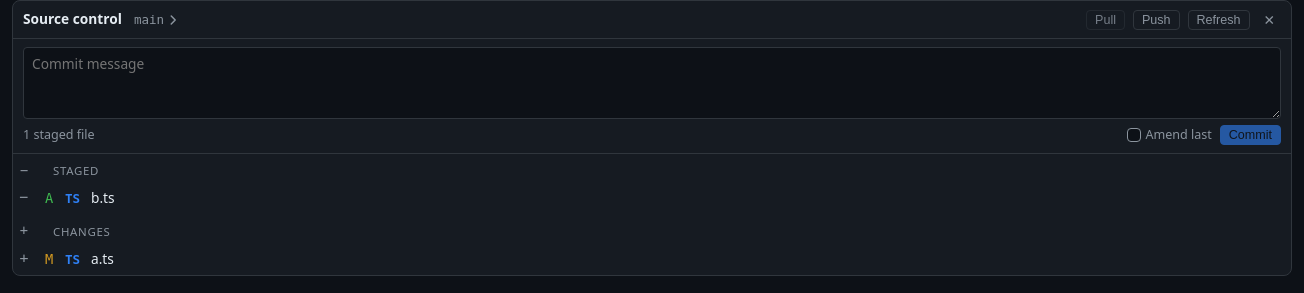
Test: choosing a branch › counts more than one of them
Click the button with aria-label "Switch branch": (157, 20) [130,11,184,28]
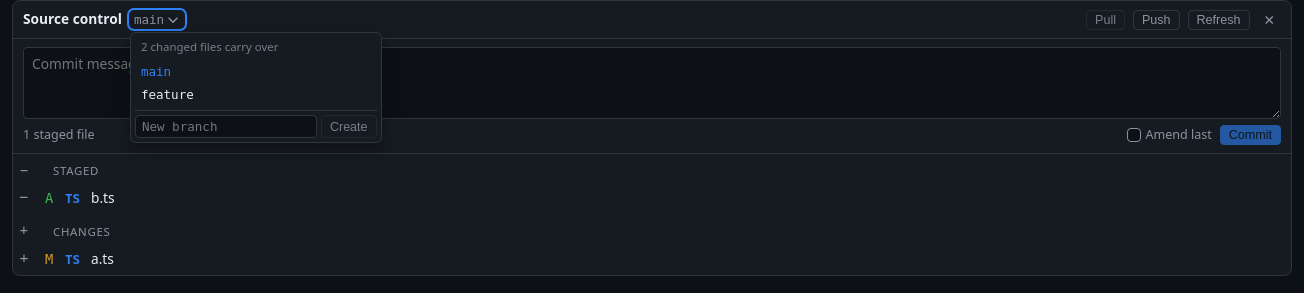
Check: the text "2 changed files carry over" is shown, box [141,39,278,54]
